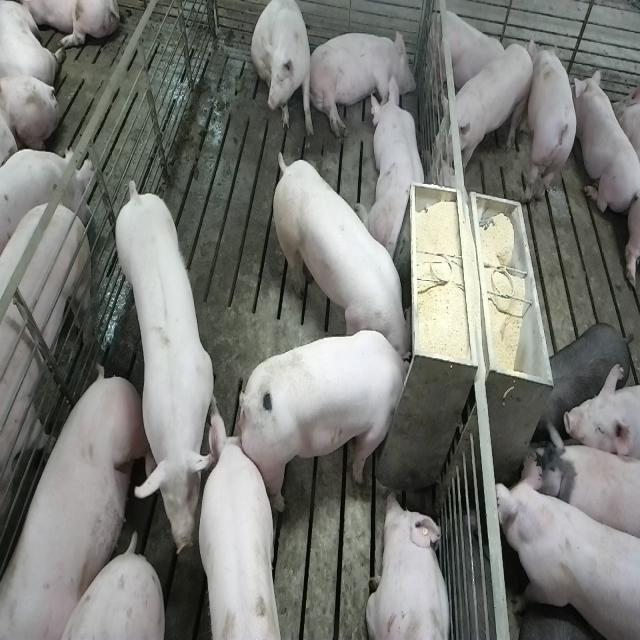Feeding: (244, 328, 420, 512), (268, 143, 410, 360)
Lateral_lying: (308, 27, 417, 139)
Sitting: (252, 1, 314, 140)
Standing: (0, 196, 93, 640), (113, 182, 219, 512), (498, 455, 640, 640), (196, 411, 286, 638), (531, 416, 637, 552), (440, 47, 537, 172), (539, 320, 635, 432), (522, 33, 580, 211)
Sternal_lying: (366, 490, 453, 640), (365, 75, 431, 257), (573, 67, 637, 215), (427, 5, 509, 97)
